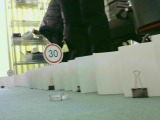speed_30: (43, 43, 63, 65)
